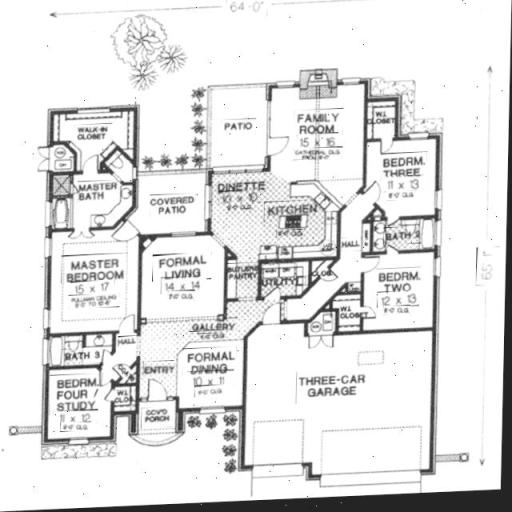Room: (276, 95, 359, 176), (178, 342, 244, 412)
bathroom: (53, 172, 144, 228), (51, 334, 125, 374), (380, 220, 435, 248)
bedroom: (52, 231, 133, 327), (364, 260, 430, 326), (370, 146, 433, 211), (51, 378, 106, 434)
garage: (253, 331, 430, 474)
hall: (144, 241, 228, 320), (116, 332, 138, 384)
kitchen: (213, 175, 333, 261)
